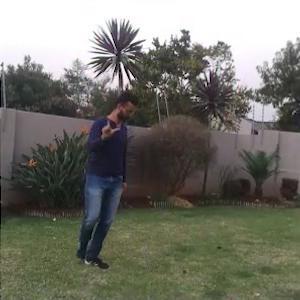land_hand: (95, 112, 119, 140)
